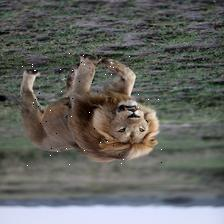Lion: (19, 53, 163, 166)
